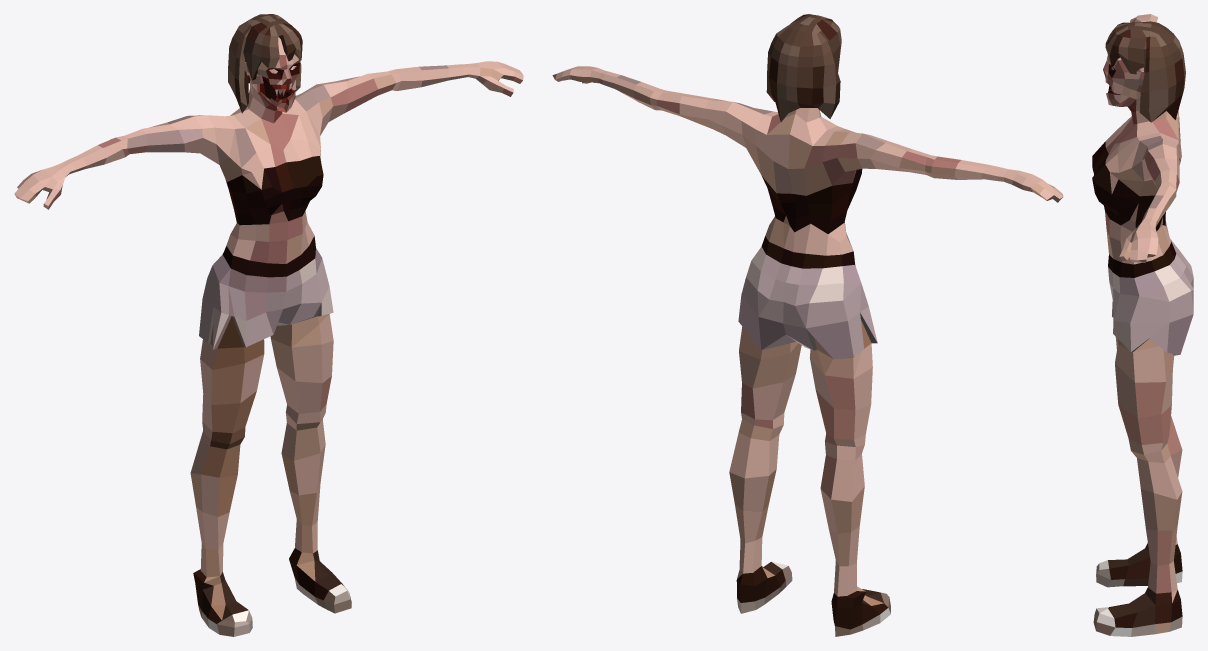
The model's file is lpFemale_zombie_B-model.fbx.
3 views of the same model, side by side, from view 1: azimuth 30°, elevation 25°; view 2: azimuth 150°, elevation 25°; view 3: azimuth 270°, elevation 25° (orthographic).
Visible parts, largest first — view 1: lpFemale_zombie_B, acc_hair_punkin; view 2: lpFemale_zombie_B, acc_hair_punkin; view 3: lpFemale_zombie_B, acc_hair_punkin.
Boxes of the visible parts, bbox=[...] form: lpFemale_zombie_B: bbox=[14, 37, 523, 636]; acc_hair_punkin: bbox=[228, 14, 302, 113]; lpFemale_zombie_B: bbox=[552, 66, 1063, 636]; acc_hair_punkin: bbox=[766, 14, 841, 121]; lpFemale_zombie_B: bbox=[1092, 14, 1193, 636]; acc_hair_punkin: bbox=[1105, 21, 1185, 122].
Bounding box in the file's own units: 153 × 170 × 26.91.
1 material, 1 textured.
